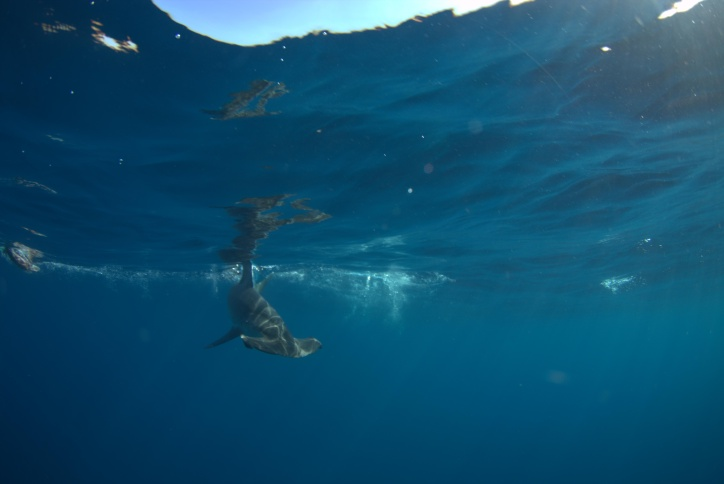Hammer: (176, 241, 333, 381)
